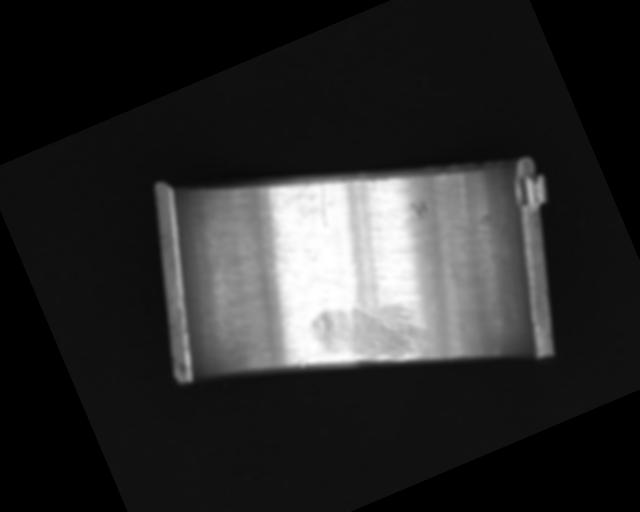bruise: (408, 196, 431, 221), (296, 357, 309, 369)
nick: (306, 179, 340, 229)
scratch: (305, 277, 435, 390)
